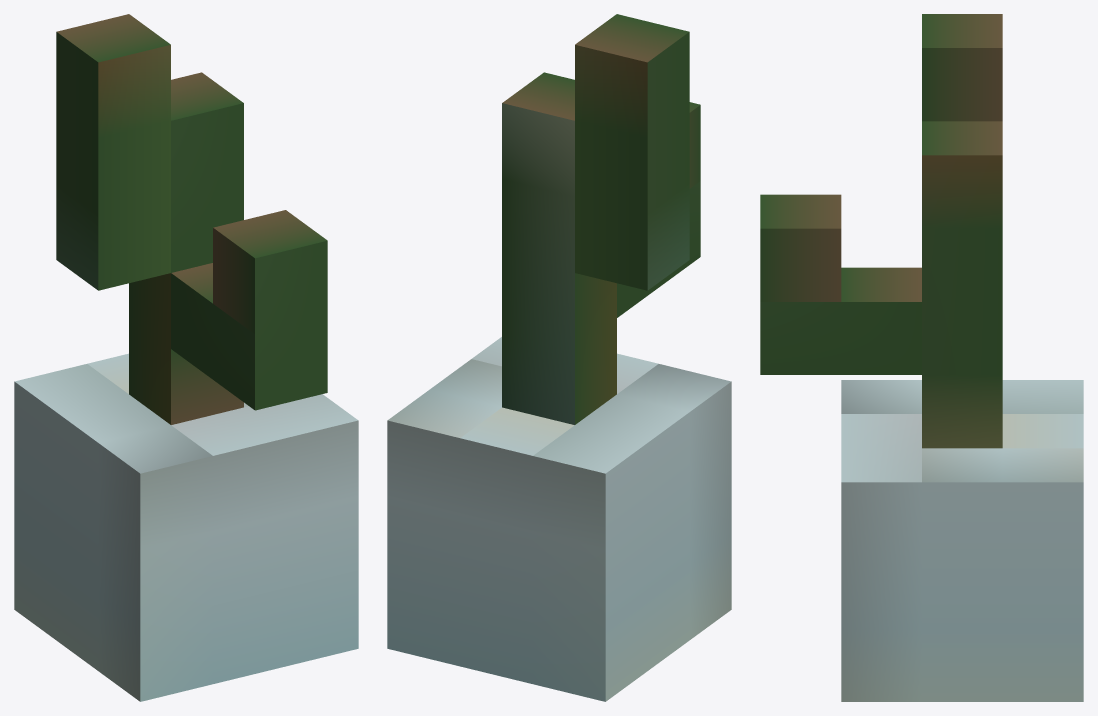
Rendered from PlantCactusSmallDarkGreen_B_00.obj.
3 views of the same model, side by side, from view 1: azimuth 30°, elevation 25°; view 2: azimuth 150°, elevation 25°; view 3: azimuth 270°, elevation 25° (orthographic). The views are drawn at different scales.
Visible parts, largest first — view 1: PlantCactusSmallDarkGreen_B_00; view 2: PlantCactusSmallDarkGreen_B_00; view 3: PlantCactusSmallDarkGreen_B_00.
Boxes of the visible parts, <box> form: PlantCactusSmallDarkGreen_B_00: <box>14,14,358,701</box>; PlantCactusSmallDarkGreen_B_00: <box>387,14,731,701</box>; PlantCactusSmallDarkGreen_B_00: <box>760,14,1083,701</box>.
Bounding box in the file's own units: 0.15 × 0.4 × 0.2.
